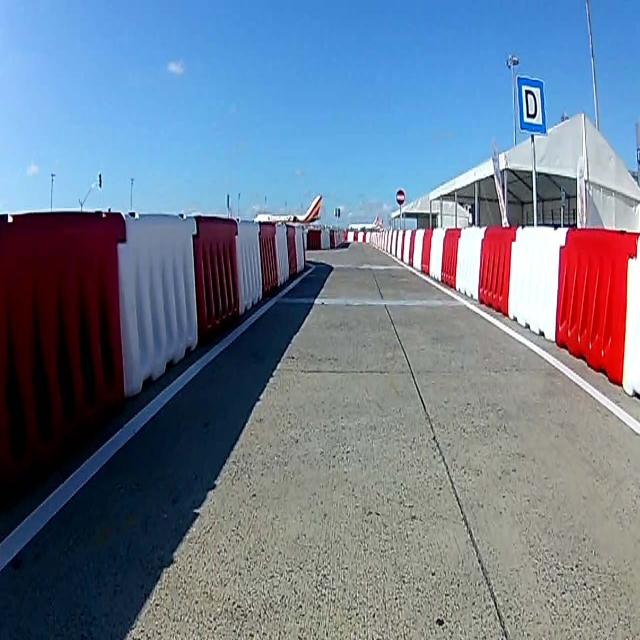durak: (516, 75, 546, 137)
girisyok: (395, 190, 405, 207)
